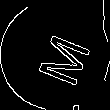M_W: (23, 24, 87, 86)
